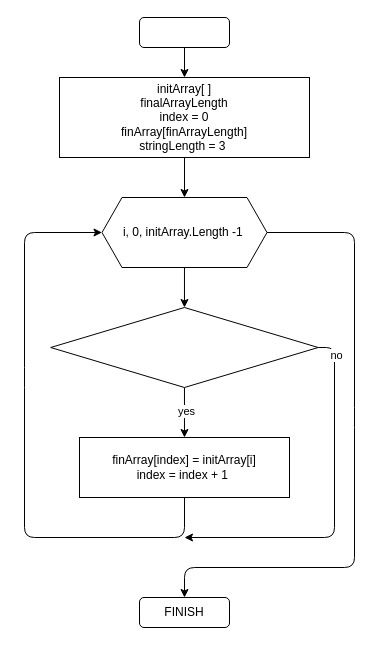
The diagram is 380 pixels wide and 645 high, and some of its shapes have lost their labels. Each missing label, with the centre of its shape:
initArray[i].Length < = stringLength: (x=184, y=347)
START: (x=184, y=32)
